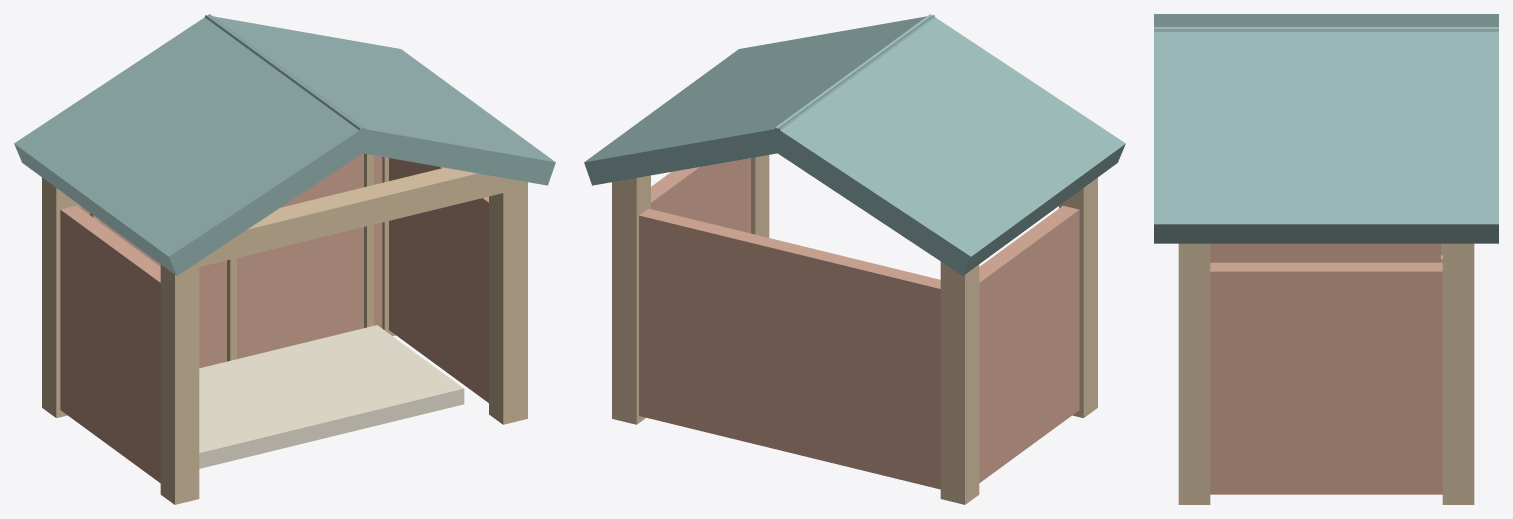
The model's file is shelter-faceted.glb.
3 views of the same model, side by side, from view 1: azimuth 30°, elevation 25°; view 2: azimuth 150°, elevation 25°; view 3: azimuth 270°, elevation 25° (orthographic). The views are drawn at different scales.
Visible parts, largest first — view 1: Roof, Straw bed, Roof.001, Side wall, Back wall, Side wall.001, Front lintel, Post, Post.002, Post.001, Wall batten.002, Wall batten.001 (+1 smaller); view 2: Back wall, Roof, Roof.001, Side wall, Post.001, Post.003, Side wall.001, Post, Post.002; view 3: Roof.001, Side wall.001, Post.002, Post.003, Roof, Side wall.
Boxes of the visible parts, left/top/right/bottom form: Roof: left=14, top=14, right=372, bottom=275; Straw bed: left=199, top=325, right=464, bottom=468; Roof.001: left=205, top=15, right=555, bottom=185; Side wall: left=60, top=205, right=160, bottom=482; Back wall: left=81, top=153, right=382, bottom=368; Side wall.001: left=389, top=158, right=488, bottom=402; Front lintel: left=186, top=167, right=523, bottom=270; Post: left=160, top=264, right=199, bottom=504; Post.002: left=489, top=181, right=527, bottom=424; Post.001: left=42, top=177, right=80, bottom=417; Wall batten.002: left=364, top=153, right=373, bottom=327; Wall batten.001: left=227, top=258, right=236, bottom=361; Back wall: left=639, top=208, right=940, bottom=489; Roof: left=767, top=14, right=1125, bottom=275; Roof.001: left=584, top=15, right=934, bottom=185; Side wall: left=979, top=205, right=1079, bottom=482; Post.001: left=940, top=261, right=979, bottom=504; Post.003: left=612, top=175, right=650, bottom=424; Side wall.001: left=651, top=158, right=750, bottom=233; Post: left=1059, top=177, right=1097, bottom=417; Post.002: left=751, top=155, right=769, bottom=237; Roof.001: left=1154, top=27, right=1498, bottom=243; Side wall.001: left=1210, top=262, right=1442, bottom=494; Post.002: left=1178, top=243, right=1210, bottom=504; Post.003: left=1442, top=243, right=1474, bottom=504; Roof: left=1154, top=14, right=1498, bottom=31; Side wall: left=1210, top=243, right=1440, bottom=262.
Bounding box in the file's own units: 2.83 × 2.39 × 1.96.
